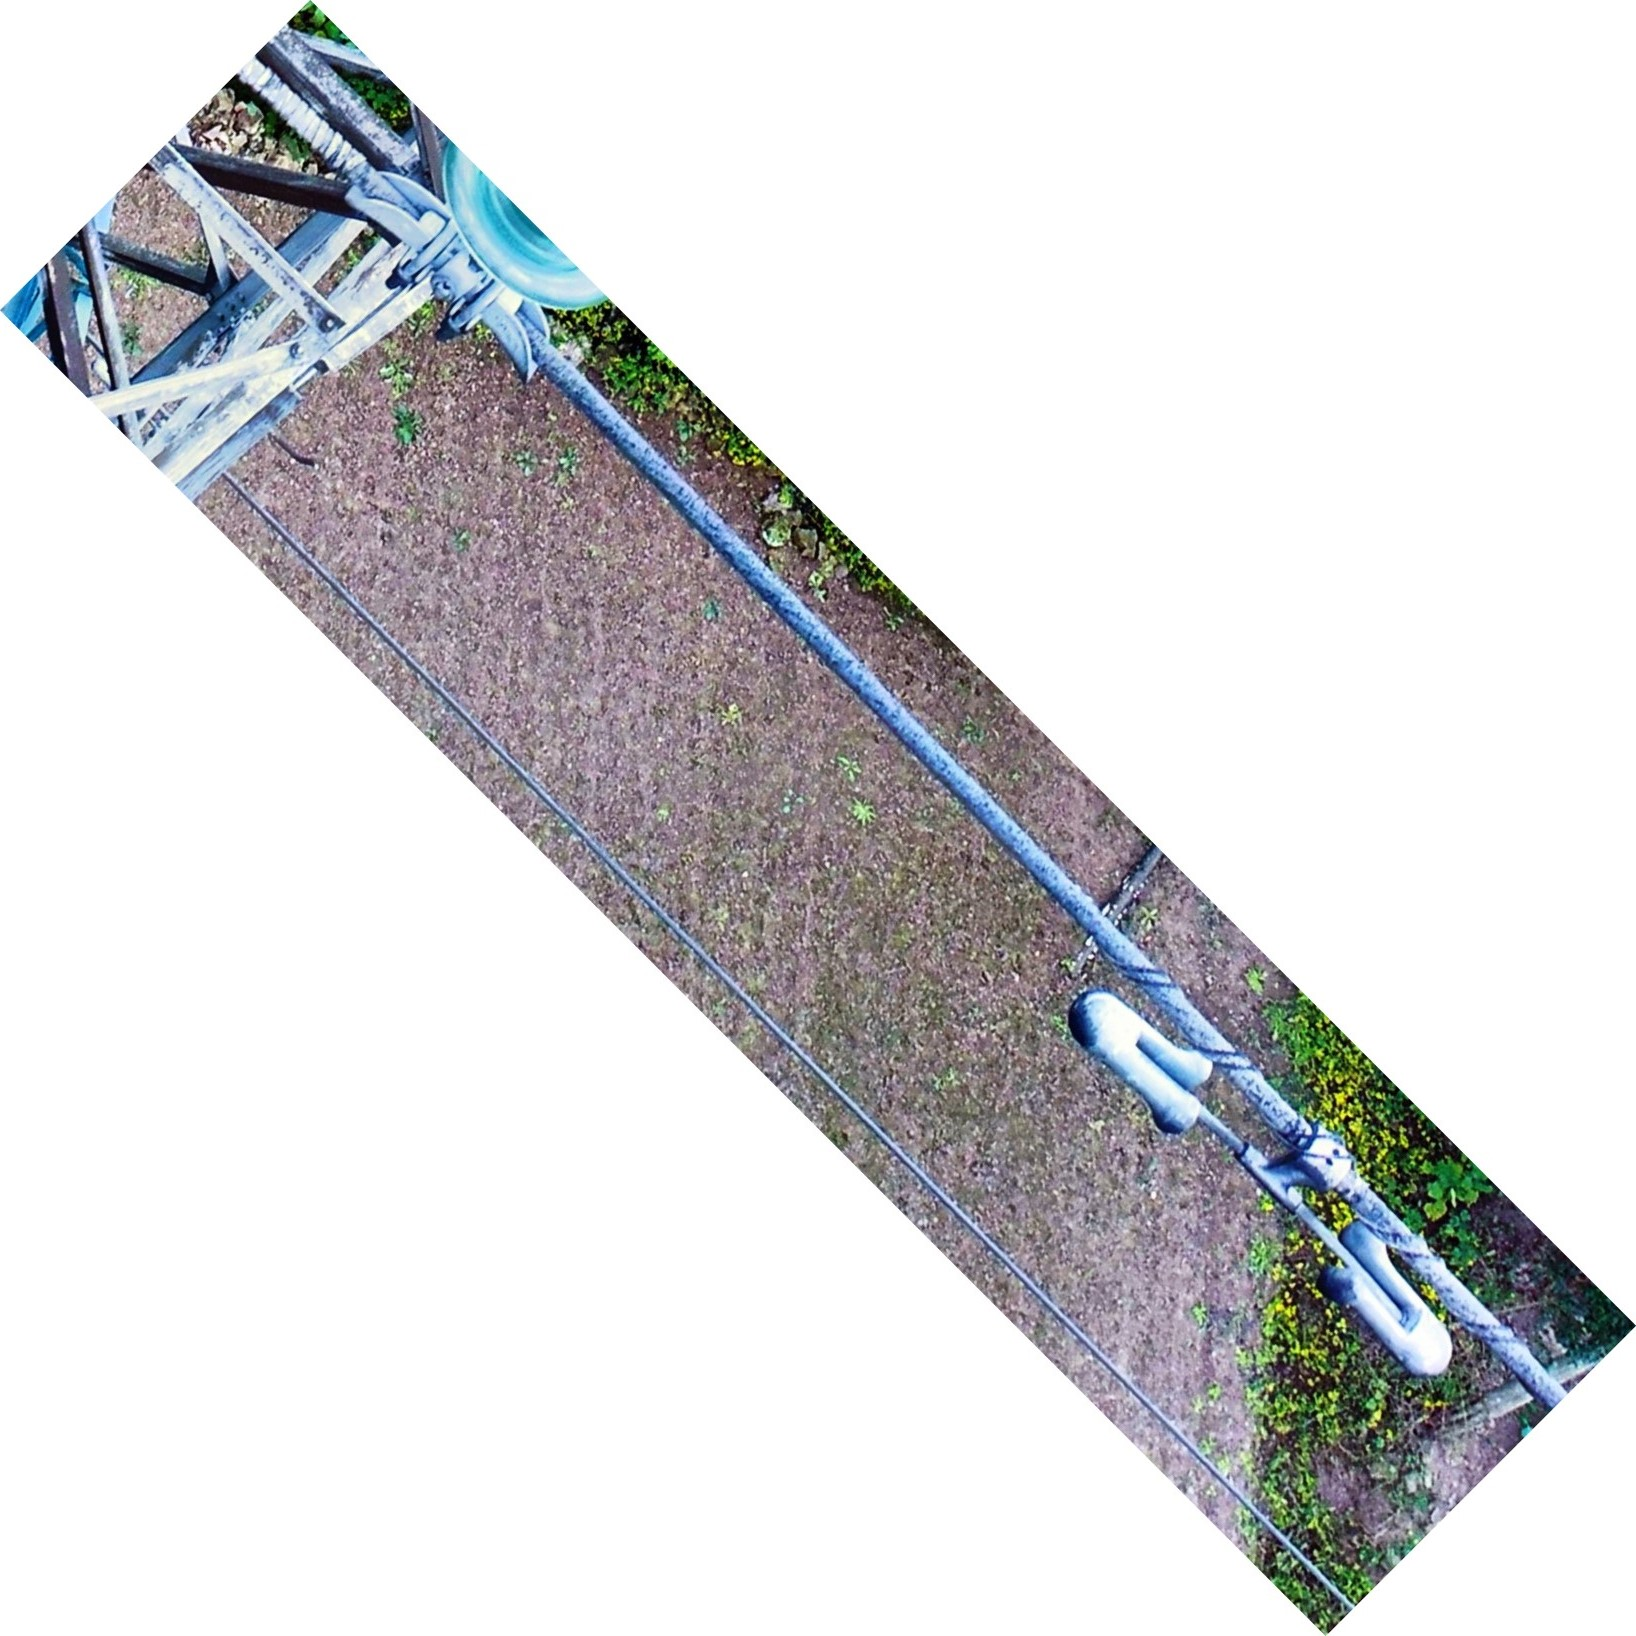Shockproof hammer: (1058, 938, 1470, 1408)
